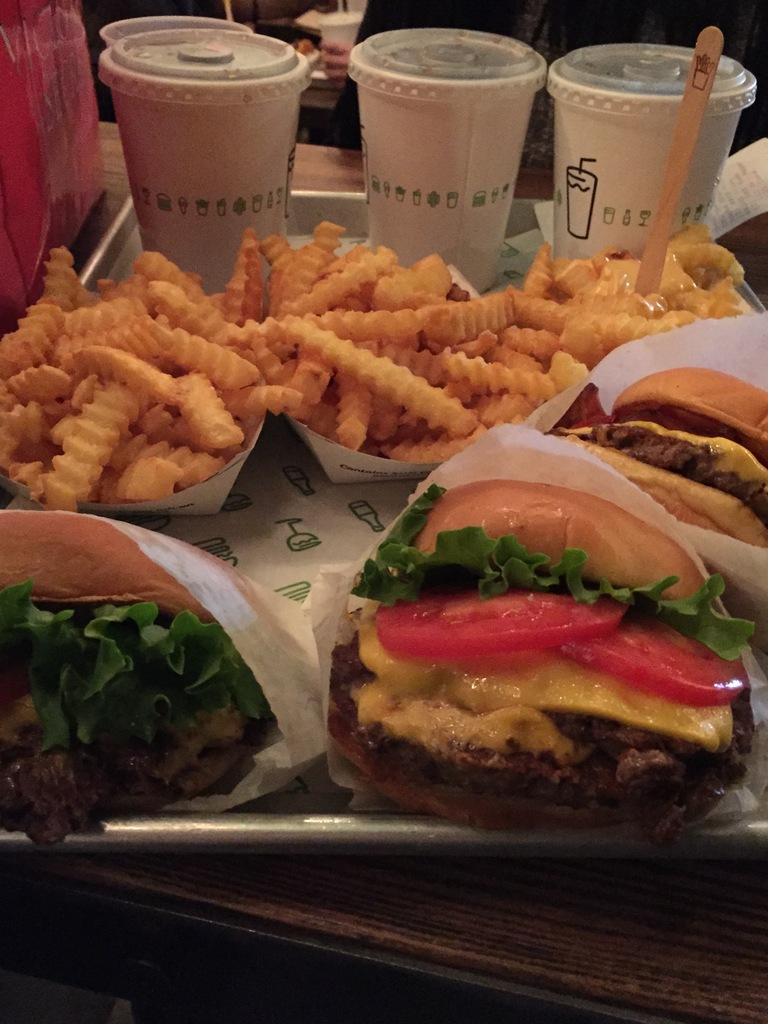French fries: (0, 195, 580, 512)
